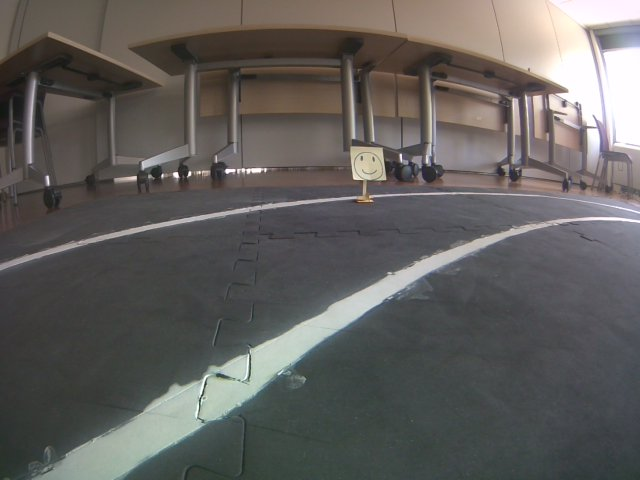Smiley: (349, 145, 387, 181)
